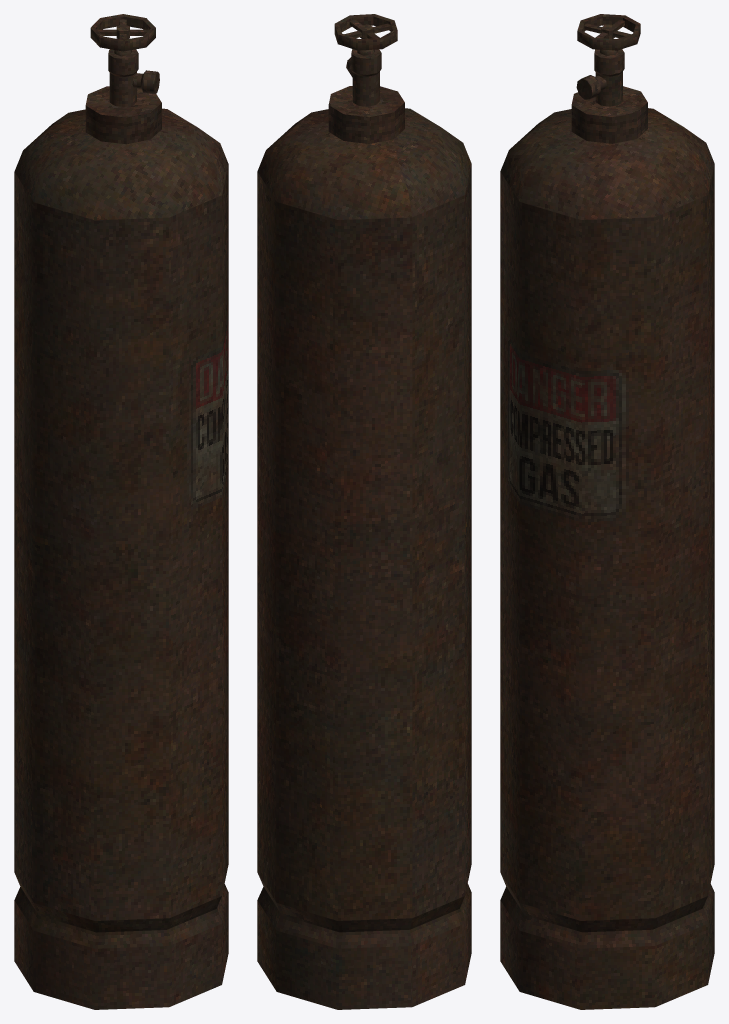
The model's file is gas_cylinder_mx_1.glb.
3 views of the same model, side by side, from view 1: azimuth 30°, elevation 25°; view 2: azimuth 150°, elevation 25°; view 3: azimuth 270°, elevation 25° (orthographic).
Visible parts, largest first — view 1: gas_cylinder_mx_1; view 2: gas_cylinder_mx_1; view 3: gas_cylinder_mx_1.
Boxes of the visible parts, x1,y1,x2,y2 form: gas_cylinder_mx_1: [14, 14, 228, 1009]; gas_cylinder_mx_1: [257, 14, 471, 1009]; gas_cylinder_mx_1: [500, 14, 714, 1009].
Size of the model in its own units: 0.3278 by 1.58 by 0.3278.
Materials: 1 (1 with a texture image).
